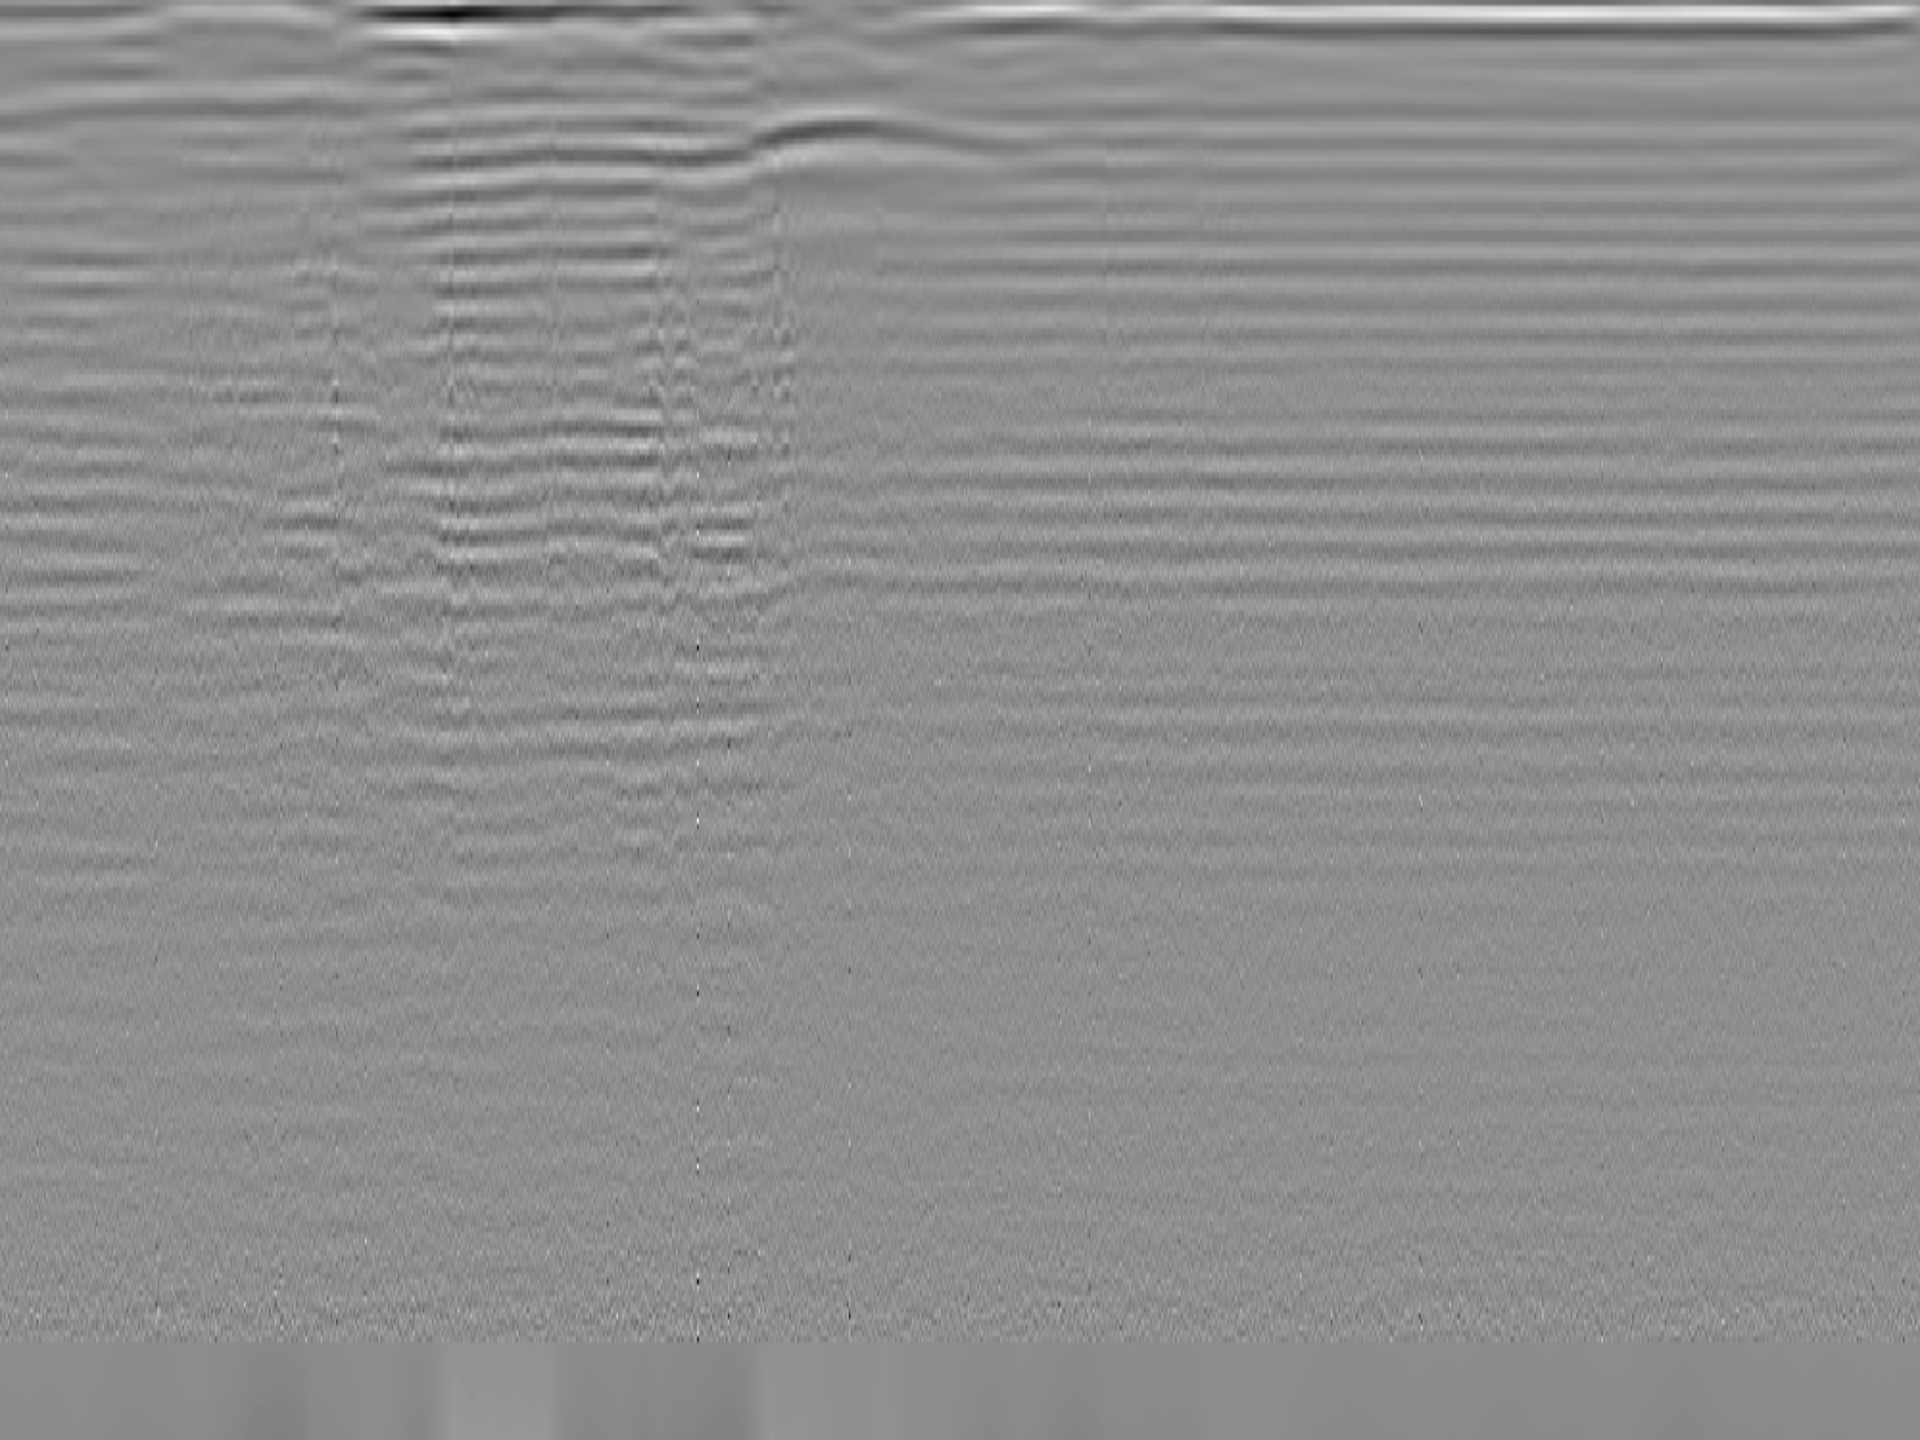Tunnel: (724, 109, 1042, 166)
